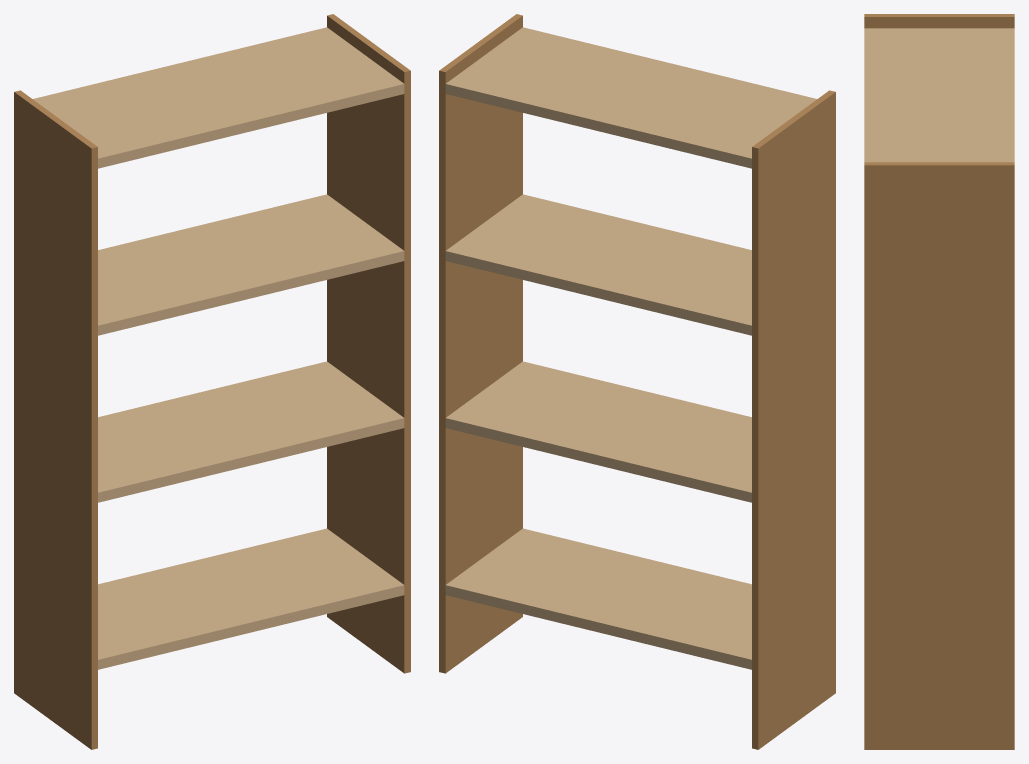
3 views of the same model, side by side, from view 1: azimuth 30°, elevation 25°; view 2: azimuth 150°, elevation 25°; view 3: azimuth 270°, elevation 25° (orthographic). The views are drawn at different scales.
Parts seen in each view (by area): view 1: estante_priv; view 2: estante_priv; view 3: estante_priv.
Part boxes in pixels (x1=…): estante_priv: x1=14, y1=14, x2=410, y2=749; estante_priv: x1=439, y1=14, x2=835, y2=749; estante_priv: x1=864, y1=14, x2=1014, y2=749.
Bounding box in the file's own units: 1 × 0.42 × 1.8.
